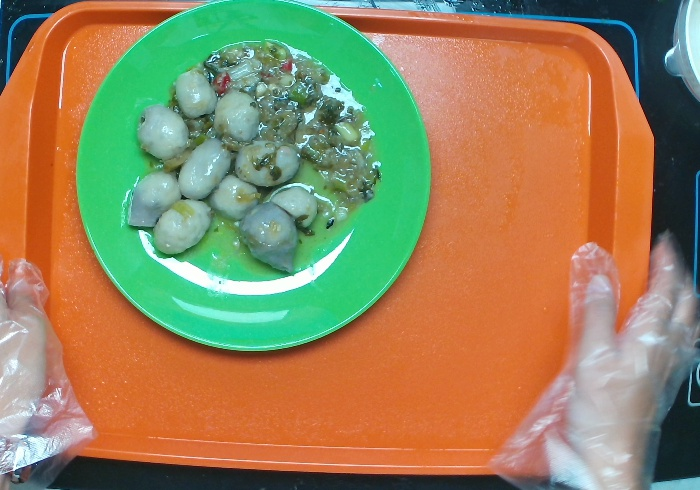HZYJPL-Lv_Se_Yuan_Pan: (76, 1, 430, 352)
